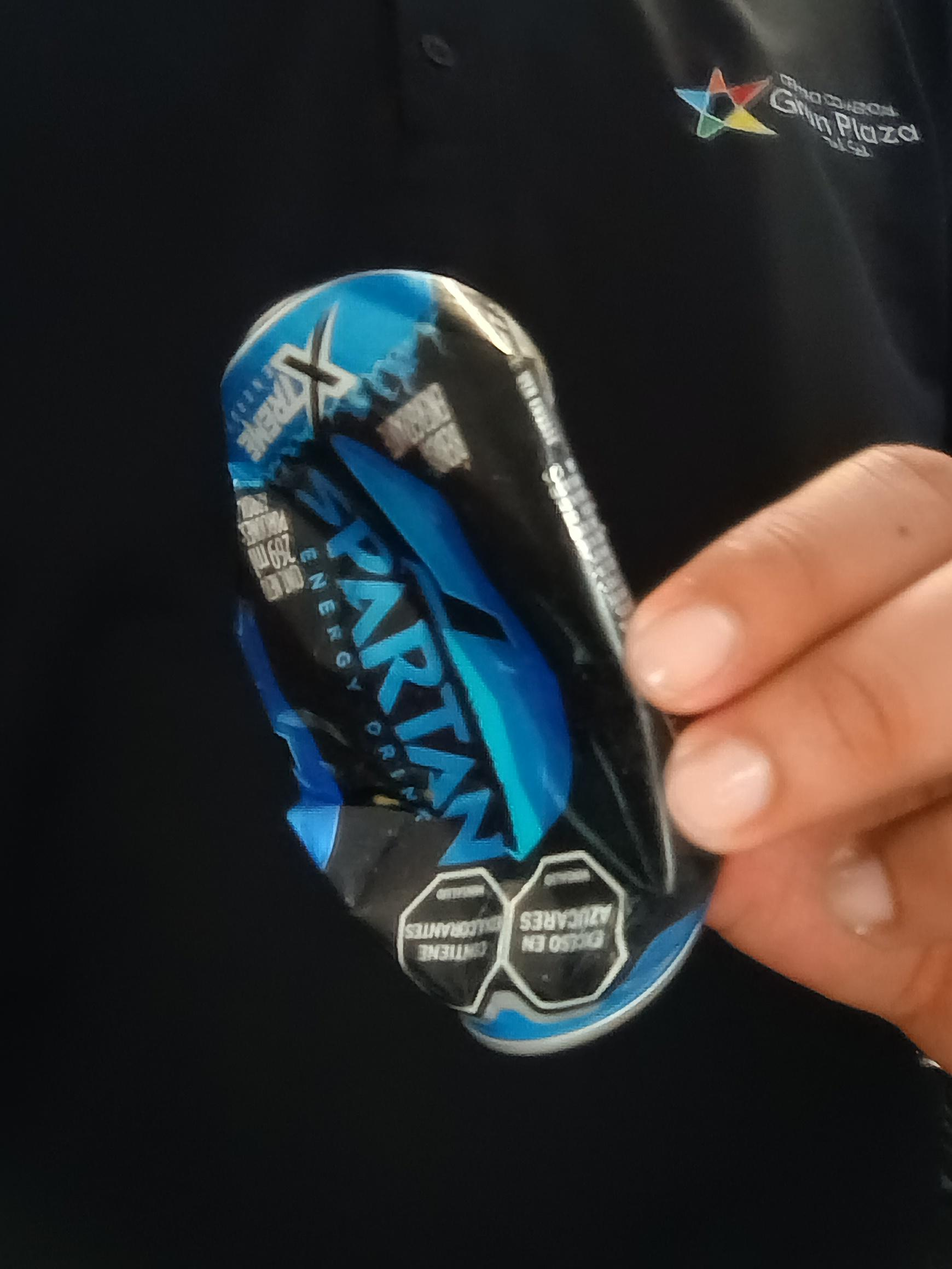Metal: (225, 269, 719, 1055)
